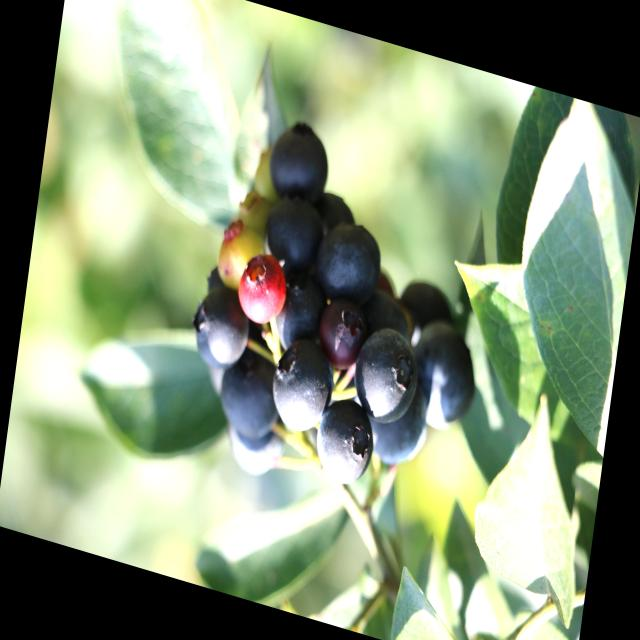blueberry: (400, 306, 488, 442), (343, 310, 428, 439), (262, 319, 344, 446), (353, 362, 438, 483), (254, 179, 335, 290), (306, 388, 384, 502), (213, 340, 290, 452), (260, 105, 336, 218), (308, 208, 392, 310), (268, 256, 338, 366), (181, 281, 255, 382), (306, 283, 377, 383), (393, 266, 465, 356), (219, 404, 291, 488), (298, 177, 366, 262), (353, 278, 419, 363), (202, 251, 250, 313)
blueberry-halfripe: (237, 255, 289, 329)
blueberry-unripe: (215, 219, 265, 294)
